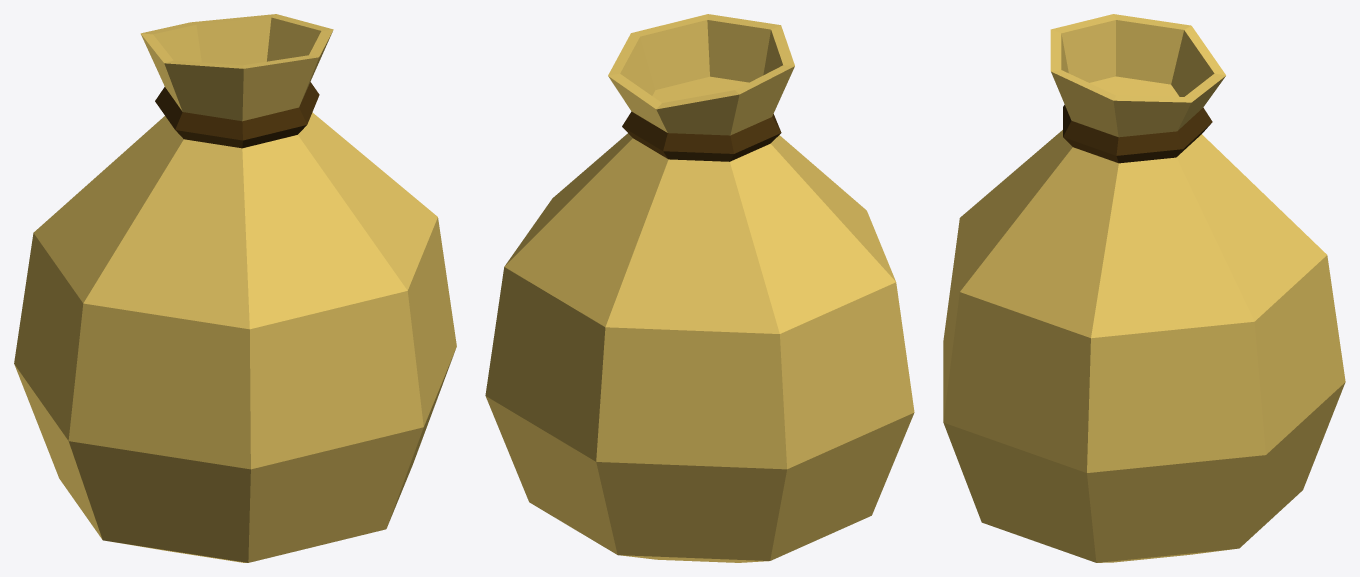
Rendered from FilledFlourSack (1).fbx.
3 views of the same model, side by side, from view 1: azimuth 30°, elevation 25°; view 2: azimuth 150°, elevation 25°; view 3: azimuth 270°, elevation 25° (orthographic). The views are drawn at different scales.
Visible parts, largest first — view 1: Cylinder.001; view 2: Cylinder.001; view 3: Cylinder.001.
Part boxes in pixels (x1,y1,x2,y2): Cylinder.001: [14, 14, 456, 562]; Cylinder.001: [485, 14, 914, 562]; Cylinder.001: [943, 14, 1345, 562].
Size of the model in its own units: 201 by 245 by 188.
